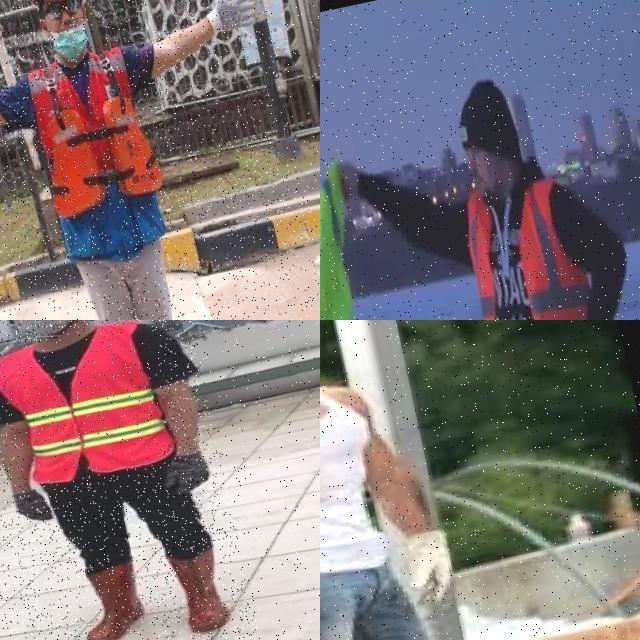boots: (75, 558, 152, 640), (167, 546, 236, 637)
vest: (22, 41, 176, 262), (0, 320, 178, 489), (450, 165, 620, 320)
